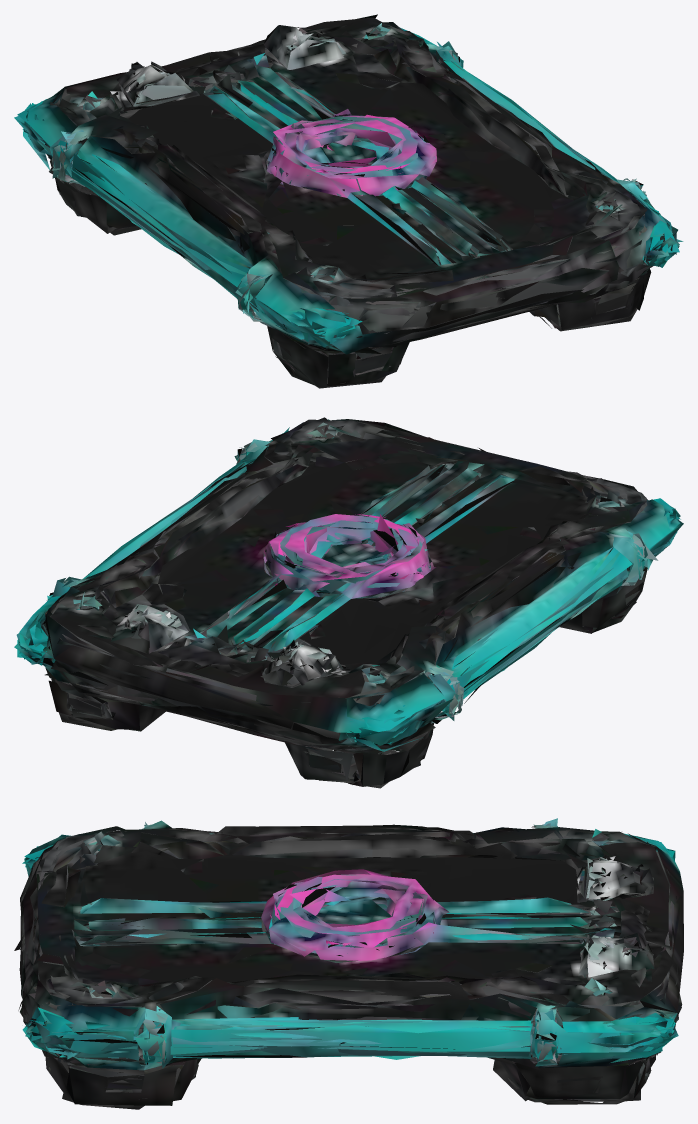
File: veh_hover.glb
3 renders of one model, top to bottom at view 1: azimuth 30°, elevation 25°; view 2: azimuth 150°, elevation 25°; view 3: azimuth 270°, elevation 25°, orthographic. The views are drawn at different scales.
Parts seen in each view (by area): view 1: low; view 2: low; view 3: low.
Boxes of the visible parts, x1,y1,x2,y2 form: low: (14, 14, 683, 388); low: (14, 417, 683, 788); low: (14, 818, 683, 1109).
Size of the model in its own units: 2.3 by 0.6989 by 3.05.
Materials: 1 (1 with a texture image).
